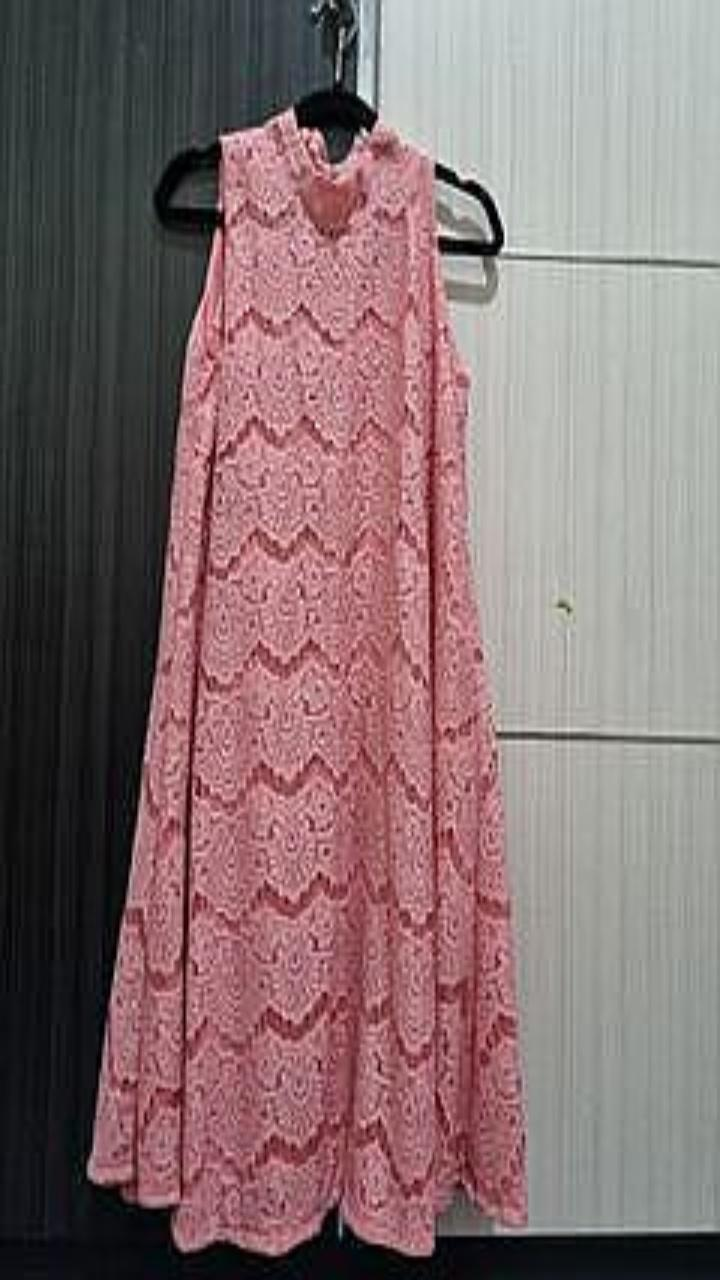Dresses: (87, 107, 526, 1254)
